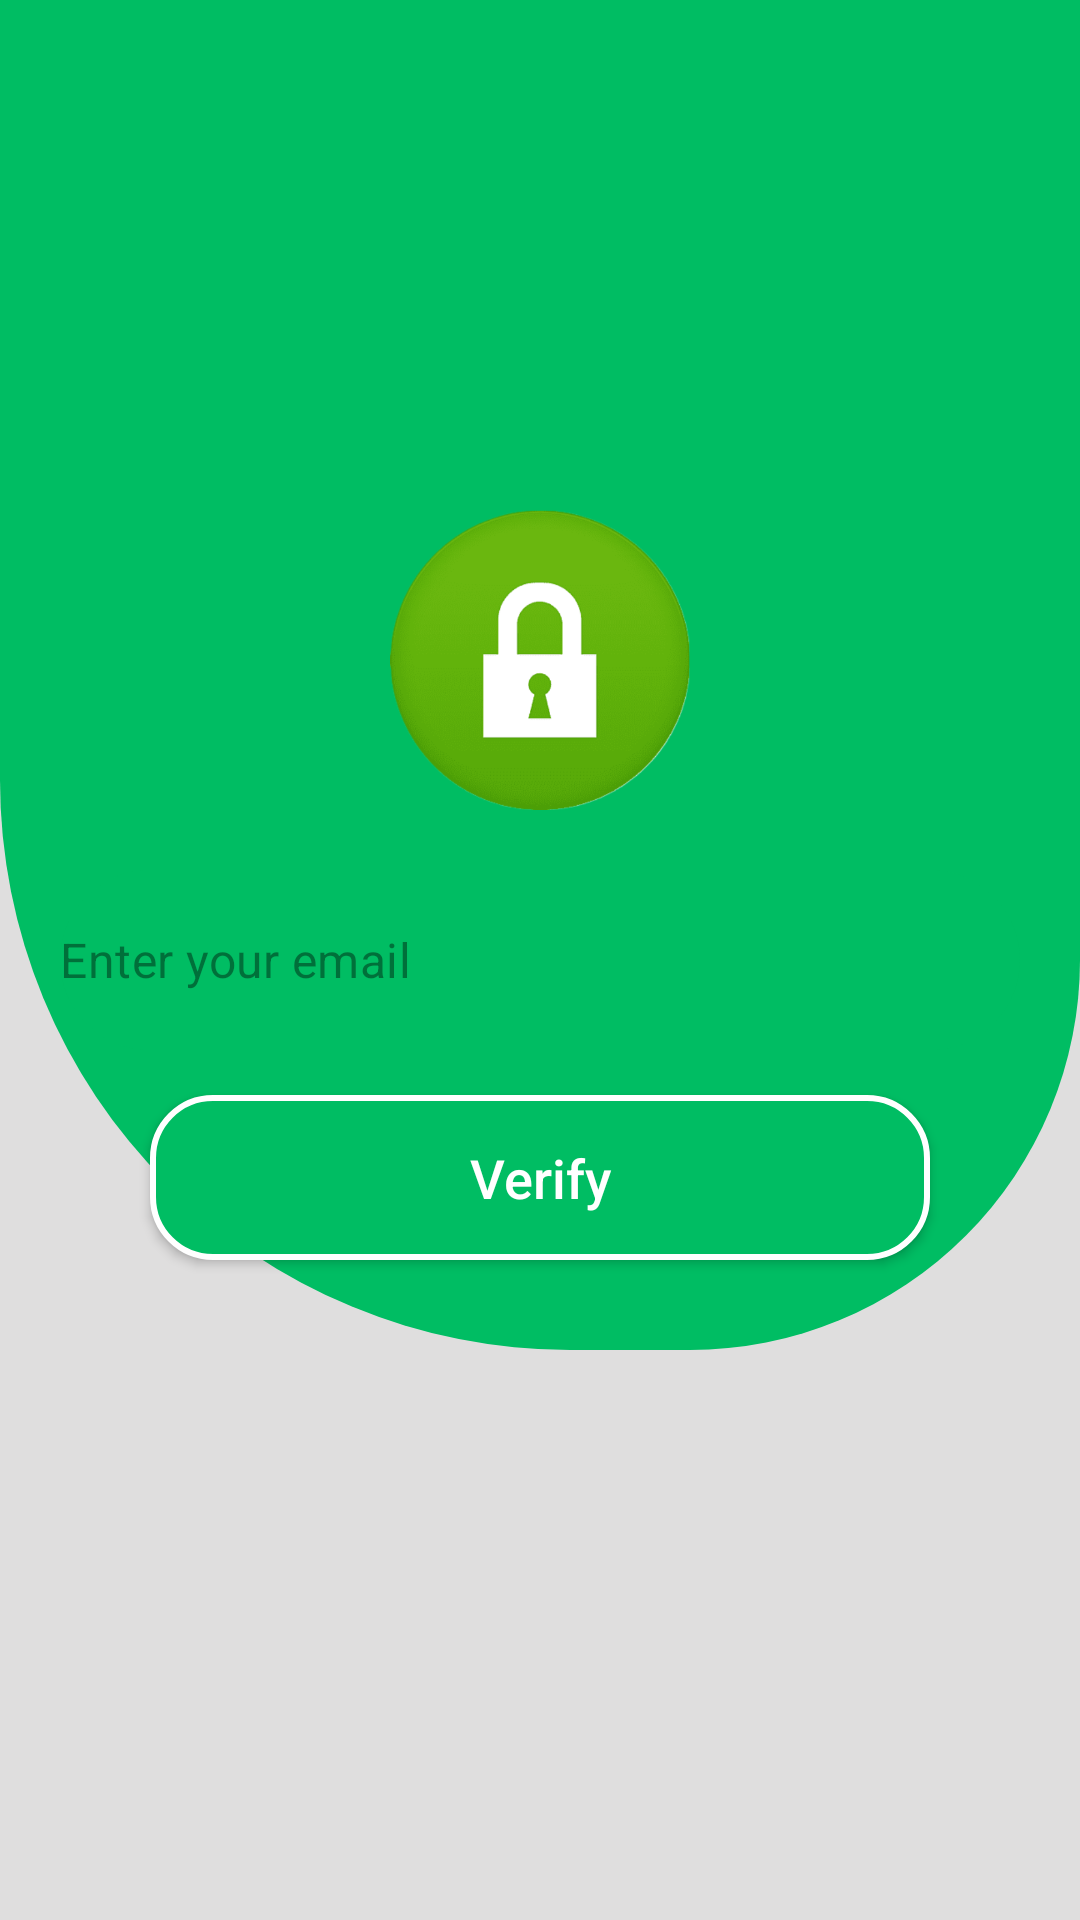

Locate icon controls on the screen. Image size 1080x1920, boxes as (x1, y1, x2, y2).
lock: (390, 511, 690, 810)
